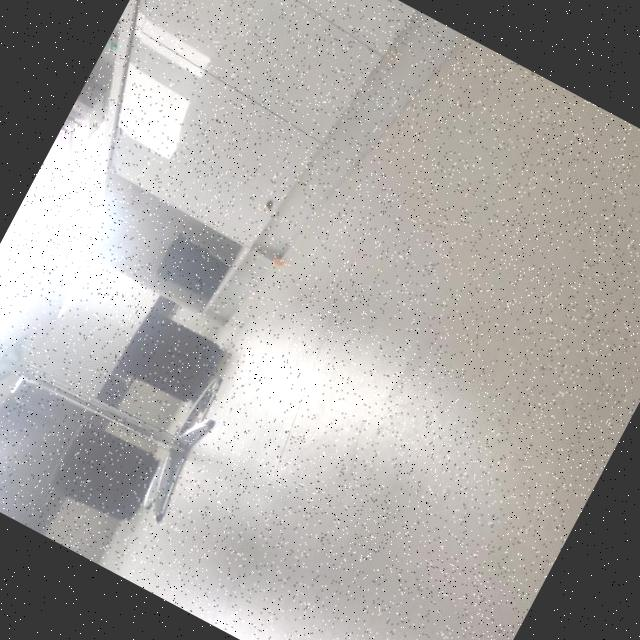ping-pong-ball: (270, 255, 284, 268)
